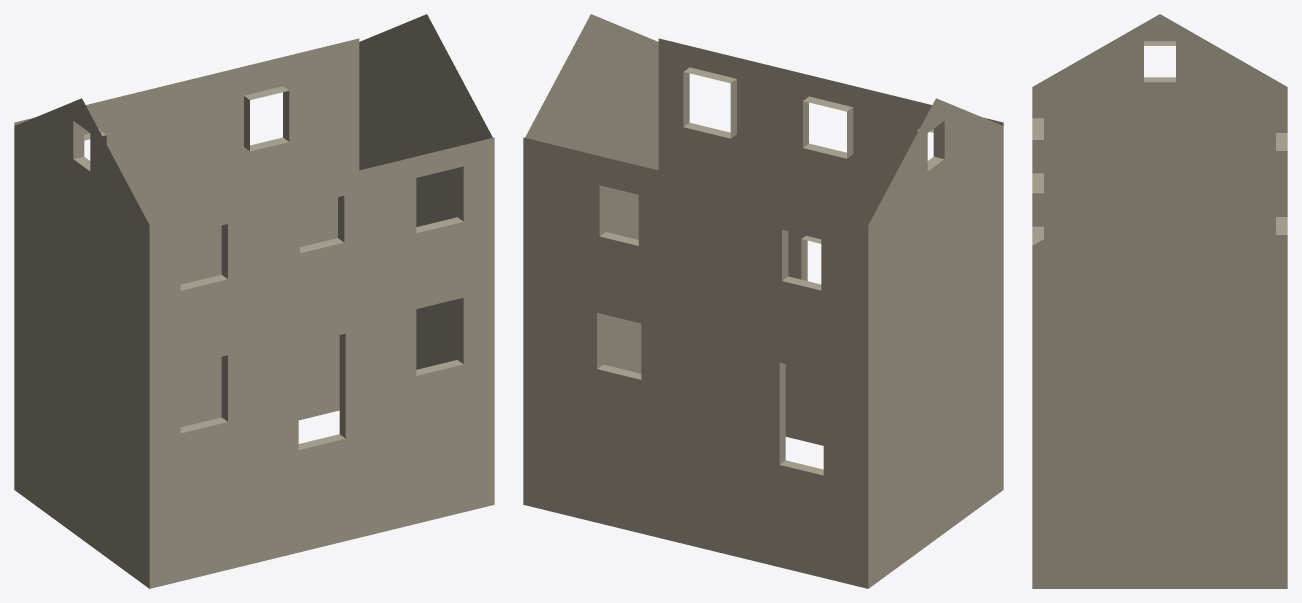
Rendered from SM_Bld_142_Render.glb.
3 renders of one model, left to right at view 1: azimuth 30°, elevation 25°; view 2: azimuth 150°, elevation 25°; view 3: azimuth 270°, elevation 25°, orthographic. The views are drawn at different scales.
Visible parts, largest first — view 1: SM_Bld_142_Render; view 2: SM_Bld_142_Render; view 3: SM_Bld_142_Render.
Part boxes in pixels (<box>): SM_Bld_142_Render: <box>14,14,494,588</box>; SM_Bld_142_Render: <box>523,14,1003,588</box>; SM_Bld_142_Render: <box>1032,14,1287,588</box>.
Size of the model in its own units: 7.05 by 8.61 by 4.79.
